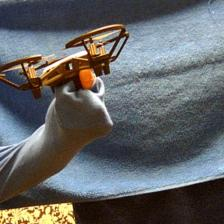drone: (1, 22, 132, 100)
